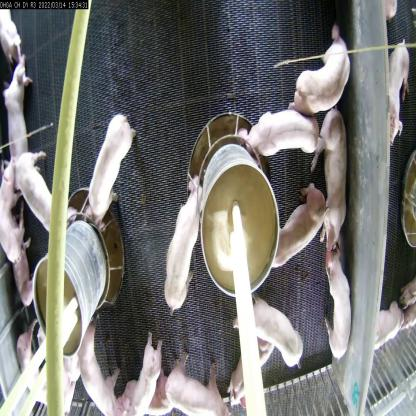Pig: (90, 113, 139, 236), (20, 161, 81, 250), (167, 176, 207, 310), (170, 350, 250, 415), (241, 101, 320, 166), (268, 186, 324, 272), (288, 36, 348, 115), (316, 99, 346, 249), (243, 291, 299, 368), (1, 177, 31, 308), (4, 64, 37, 166), (320, 240, 346, 367), (73, 323, 115, 401), (128, 342, 172, 414), (385, 39, 414, 144), (229, 346, 272, 403)
